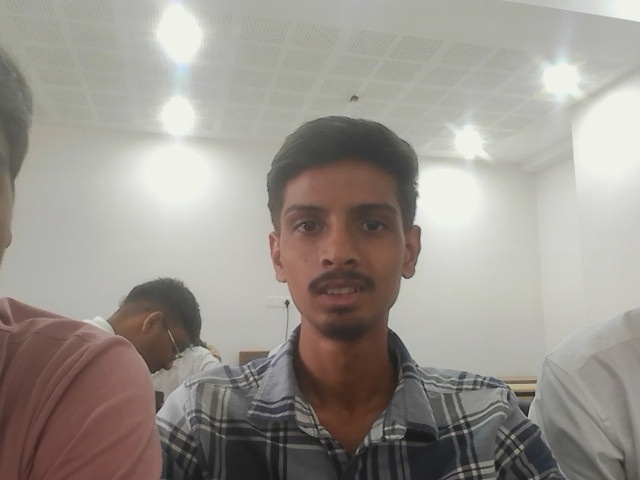light_off: (629, 6, 640, 25)
light_on: (378, 172, 489, 278), (151, 87, 203, 133), (444, 119, 492, 165), (533, 56, 574, 98)
person: (0, 15, 201, 479)
